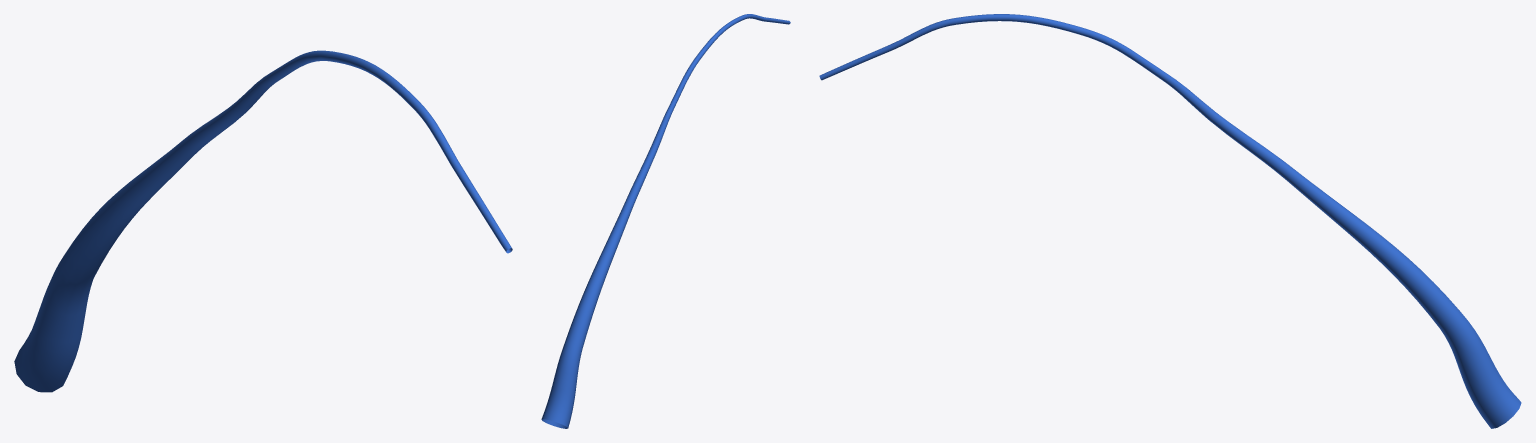
The model's file is circulatorio-straight-sinus.glb.
3 views of the same model, side by side, from view 1: azimuth 30°, elevation 25°; view 2: azimuth 150°, elevation 25°; view 3: azimuth 270°, elevation 25° (orthographic). The views are drawn at different scales.
Parts seen in each view (by area): view 1: Straight sinus; view 2: Straight sinus; view 3: Straight sinus.
Boxes of the visible parts, x1,y1,x2,y2 form: Straight sinus: (14, 50, 512, 392); Straight sinus: (541, 14, 790, 428); Straight sinus: (819, 14, 1521, 428).
Size of the model in its own units: 0.003 by 0.0329 by 0.0508.
